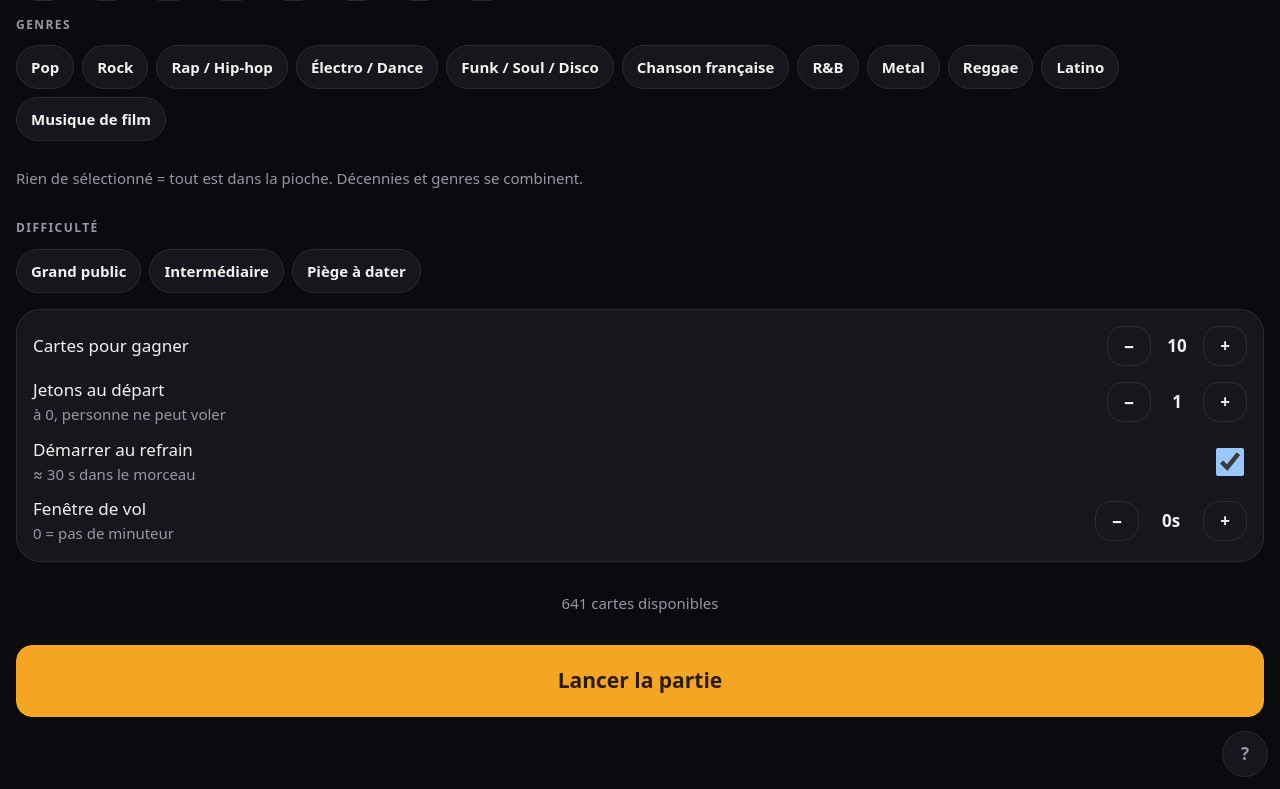
a game, played through the UI › shows the scoreboard, and restarts back into the settings
Later steps or results of the test are not shown.
(page scrolled)
Step 1. Click the button "Lancer la partie" → point(640, 681), box [16,645,1264,717]
(page scrolled)
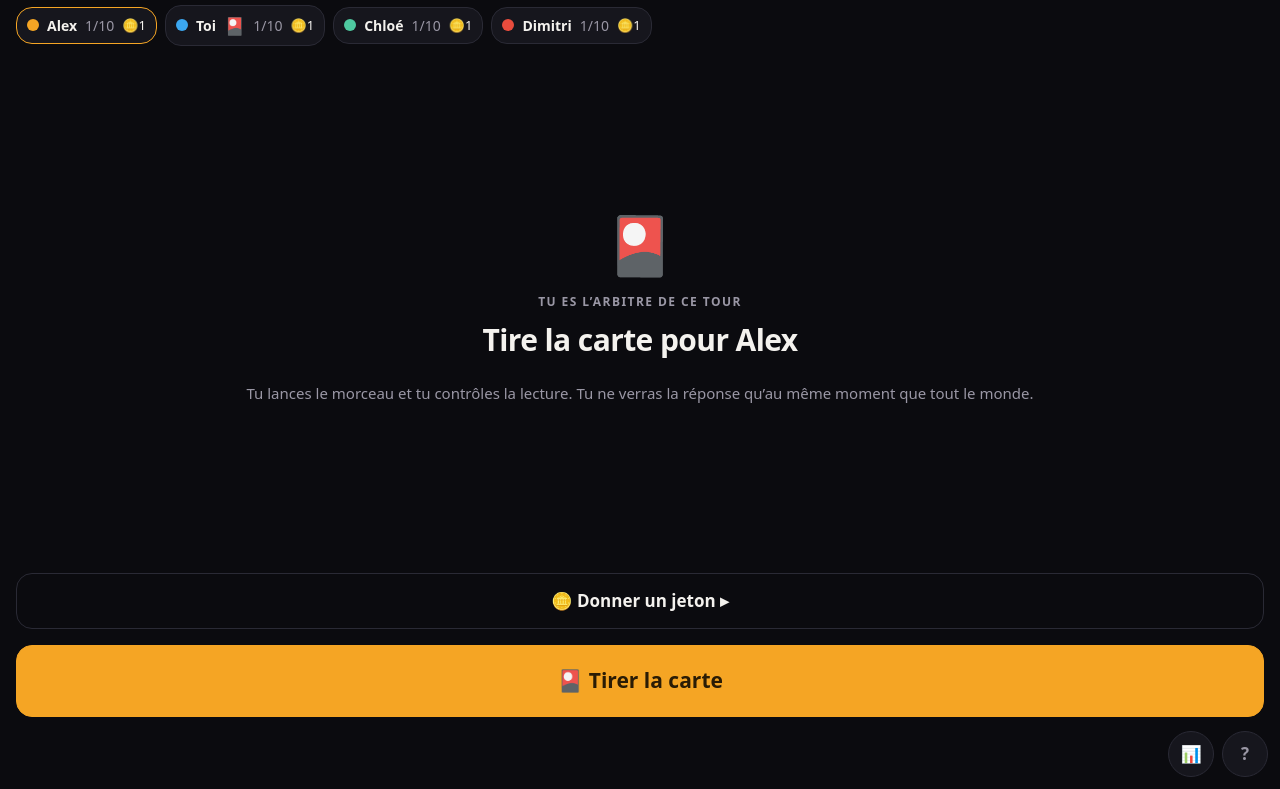
Check: the button "🎴 Tirer la carte" is shown, box [16,645,1264,717]
Step 2. Click the button named "Scores et réglages" → point(1191, 754), box [1168,731,1214,777]
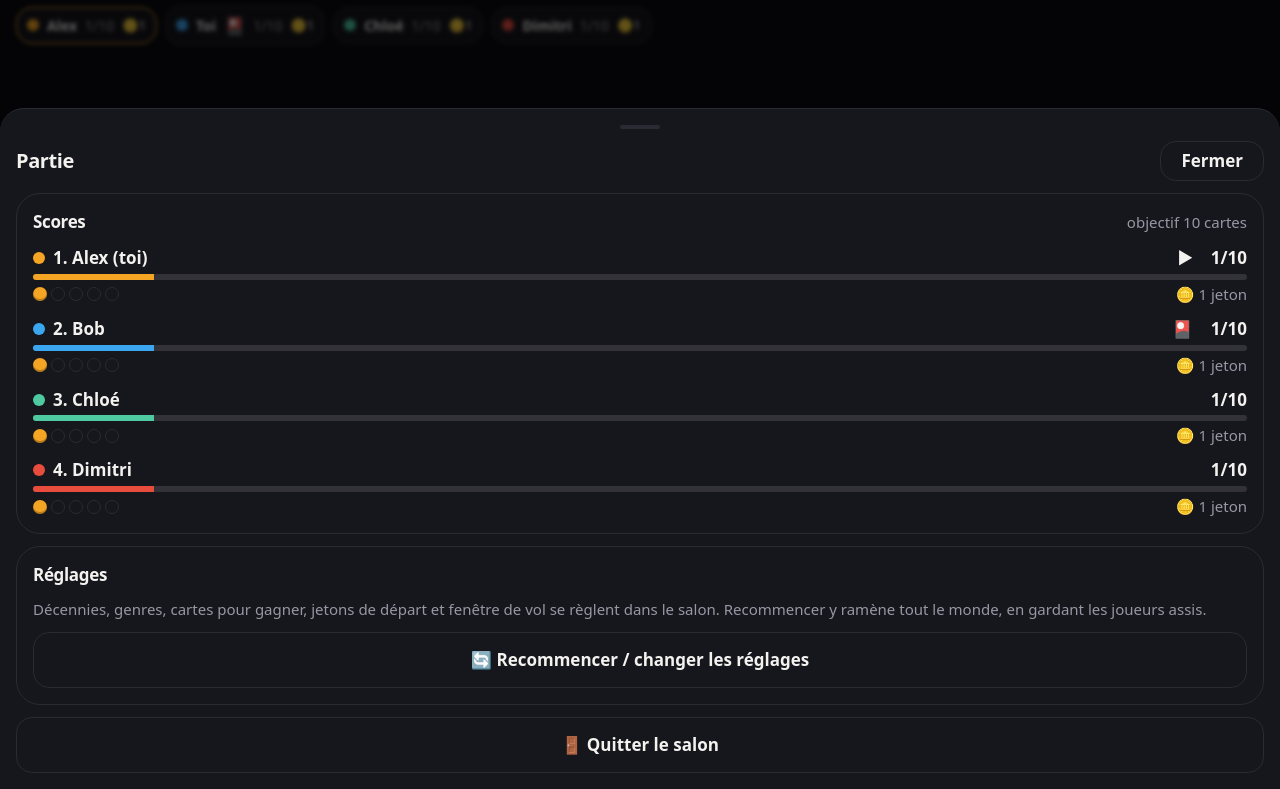
Check: the heading "Scores" is shown, box [33,210,86,234]
Check: the text "objectif 10 cartes" is shown, box [1127,212,1247,233]
